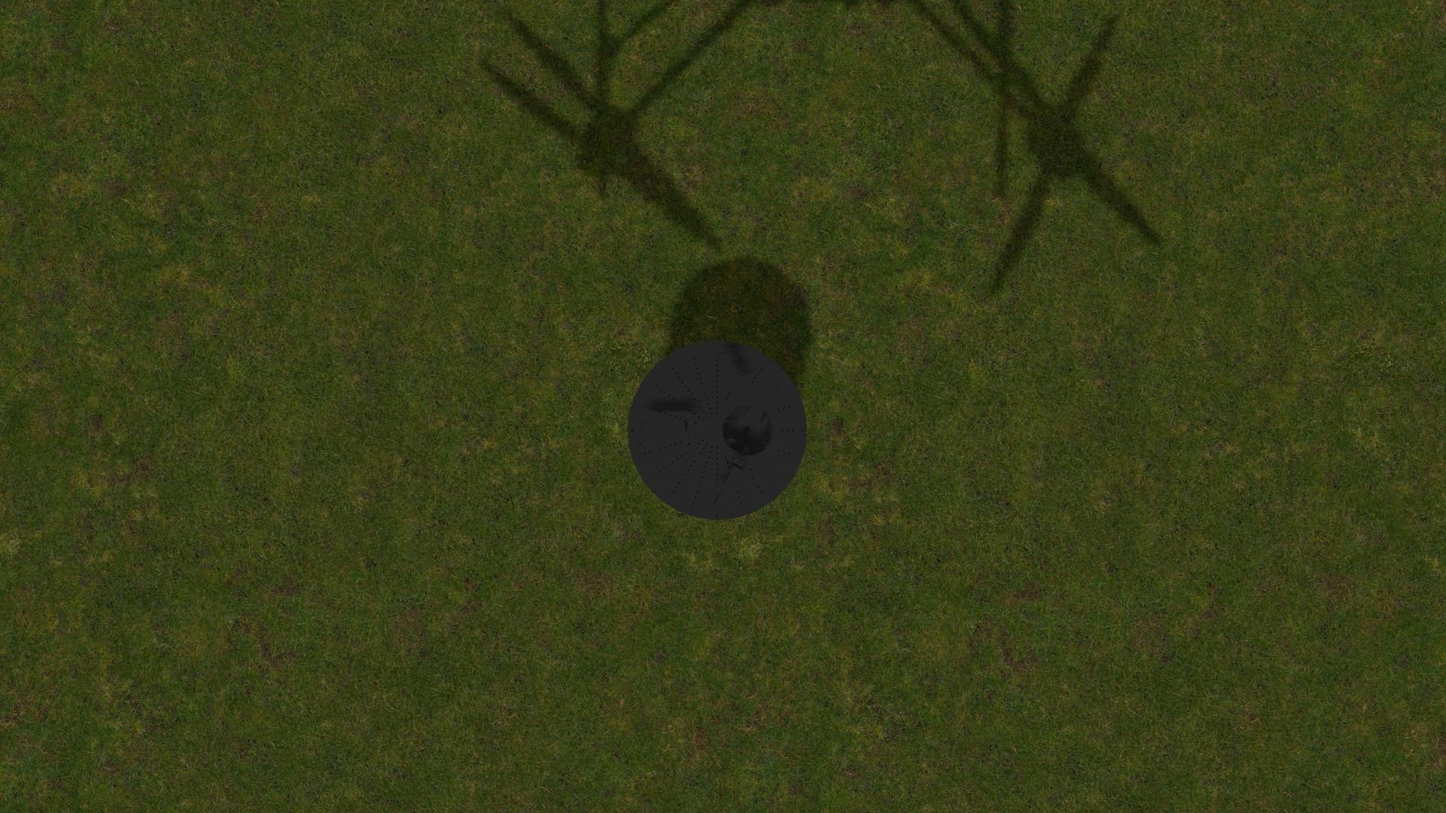alca: (713, 458, 745, 512), (715, 347, 745, 400), (637, 421, 694, 433)
armadilha: (627, 340, 807, 520)
